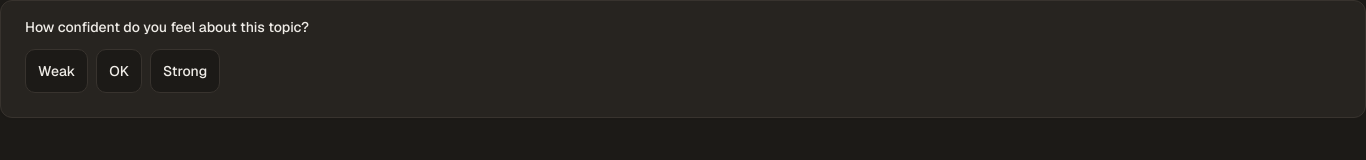
Test case: ConfidenceCalibration › shows phase 2 prompt after before rating is selected
Click the button with test id "rating-ok" at (119, 71), box [96, 49, 142, 93]
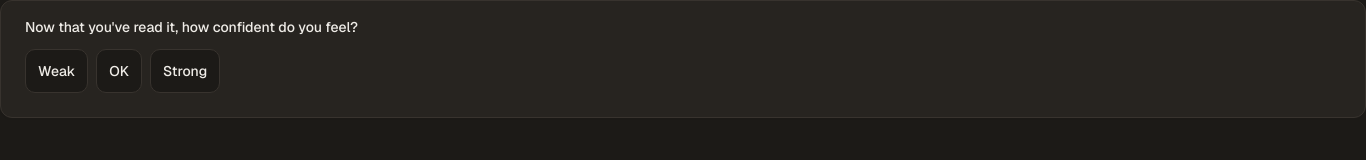
Expected: the text "Now that you've read it, how confident do you feel?" is shown, [25, 18, 358, 36]
